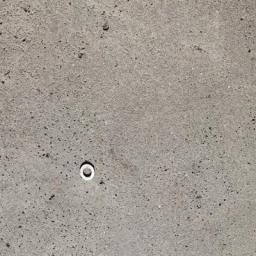FOD: (77, 160, 98, 183)
